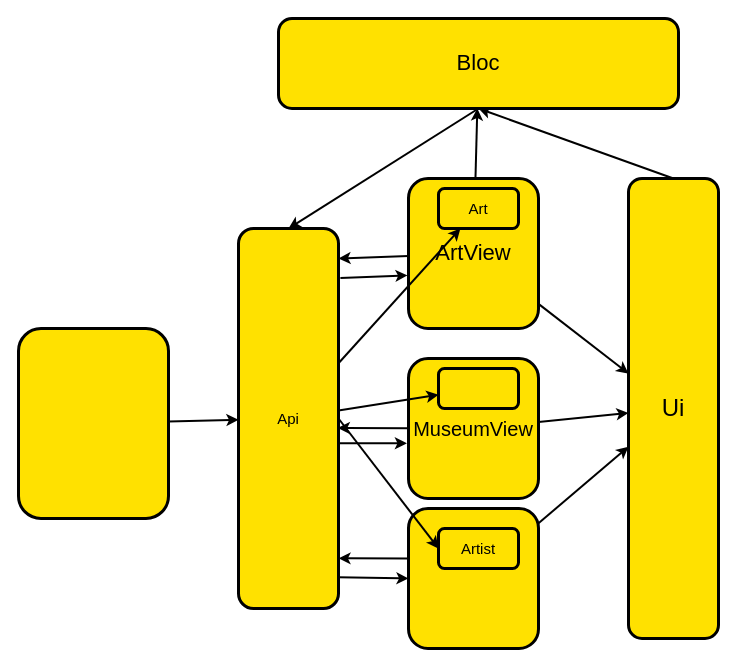
This 737x667 diagram has some shape labels left out. The box of each missing label's shape, as (x1, y1, x2, y2) in pixels:
ArtistView: (406, 506, 540, 650)
Museum: (436, 366, 520, 410)
Veri Tabanı: (16, 326, 170, 520)
